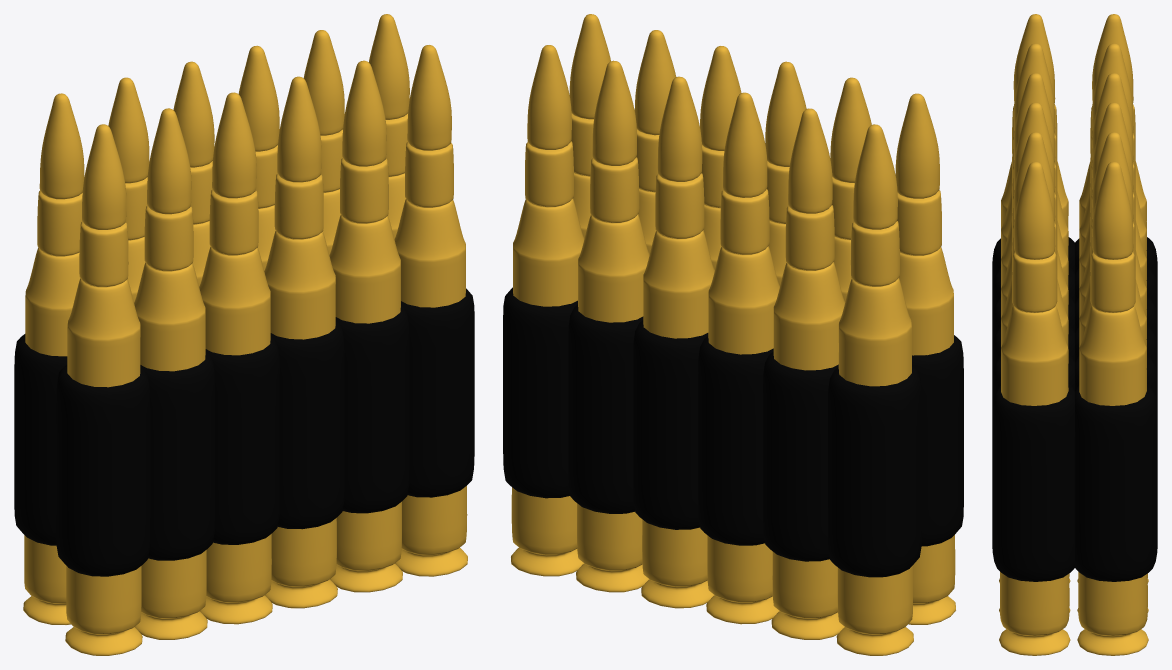
File: municion.fbx
3 views of the same model, side by side, from view 1: azimuth 30°, elevation 25°; view 2: azimuth 150°, elevation 25°; view 3: azimuth 270°, elevation 25° (orthographic). The views are drawn at different scales.
Visible parts, largest first — view 1: Cube.001; view 2: Cube.001; view 3: Cube.001.
Boxes of the visible parts, left/top/right/bottom form: Cube.001: left=14, top=14, right=474, bottom=655; Cube.001: left=503, top=14, right=963, bottom=655; Cube.001: left=992, top=14, right=1157, bottom=655.
Size of the model in its own units: 1506 by 1829 by 572.
